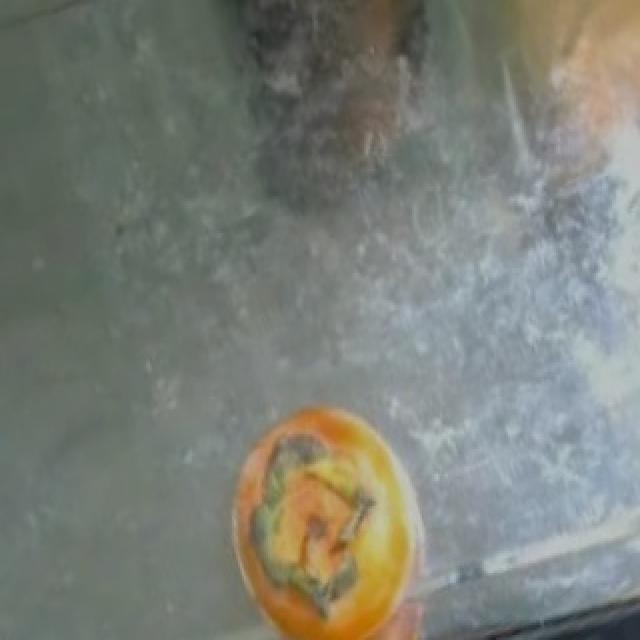Fruit: (216, 389, 444, 640)
